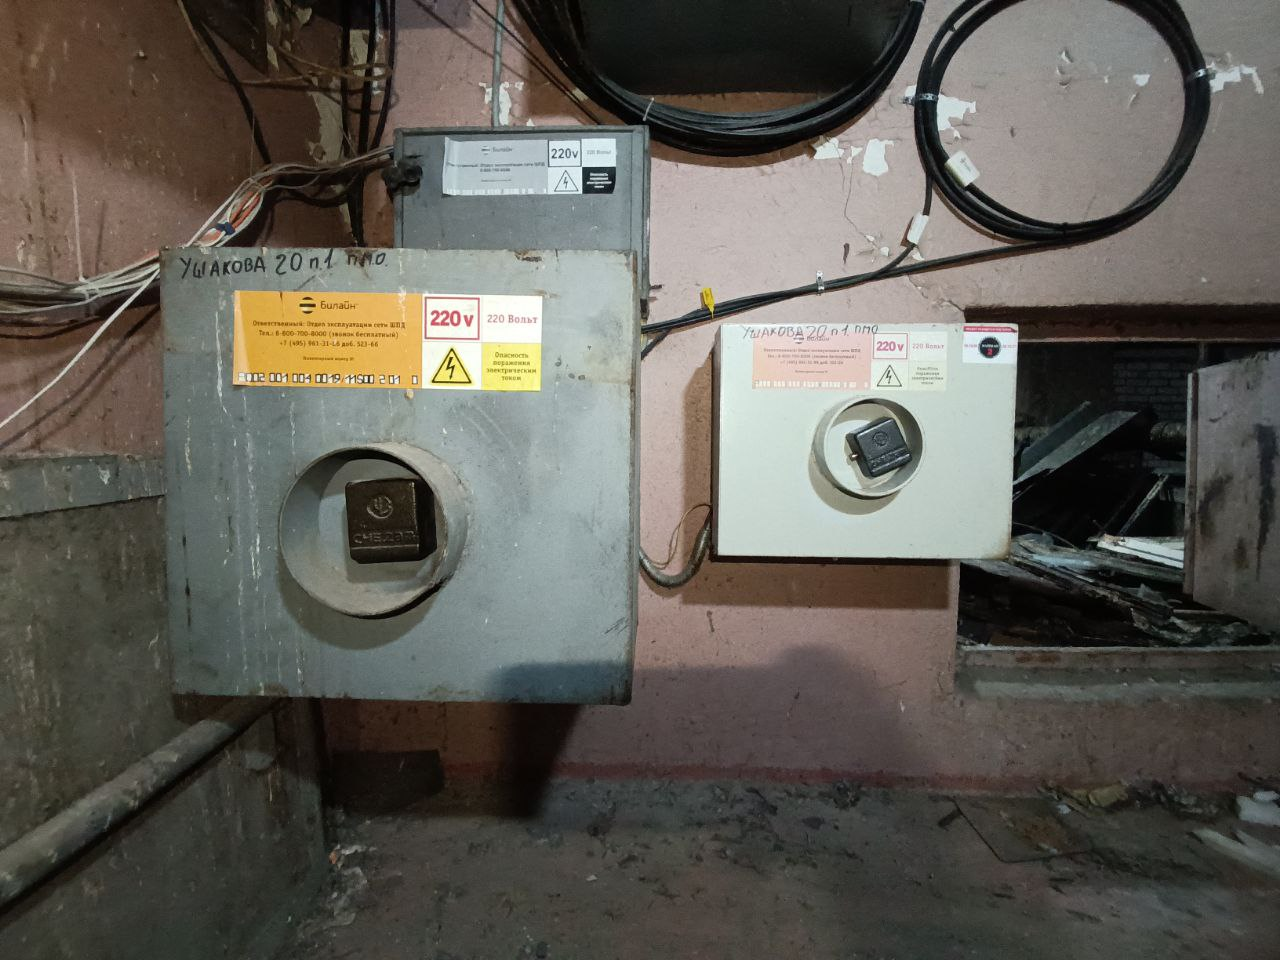shta-3: (705, 315, 1025, 561)
shta-9: (154, 241, 639, 706)
